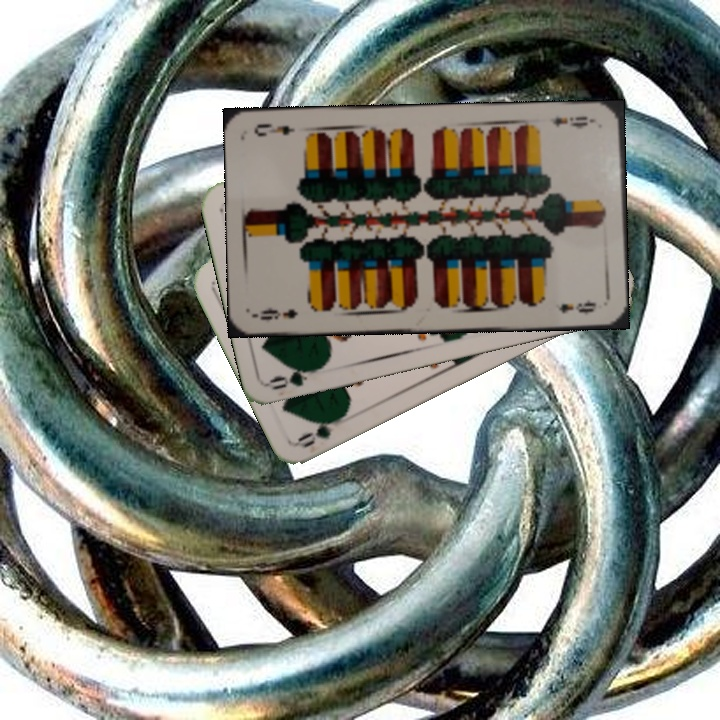E9: (546, 112, 598, 131), (253, 305, 300, 323)
GO: (294, 408, 349, 451), (266, 360, 324, 393)
